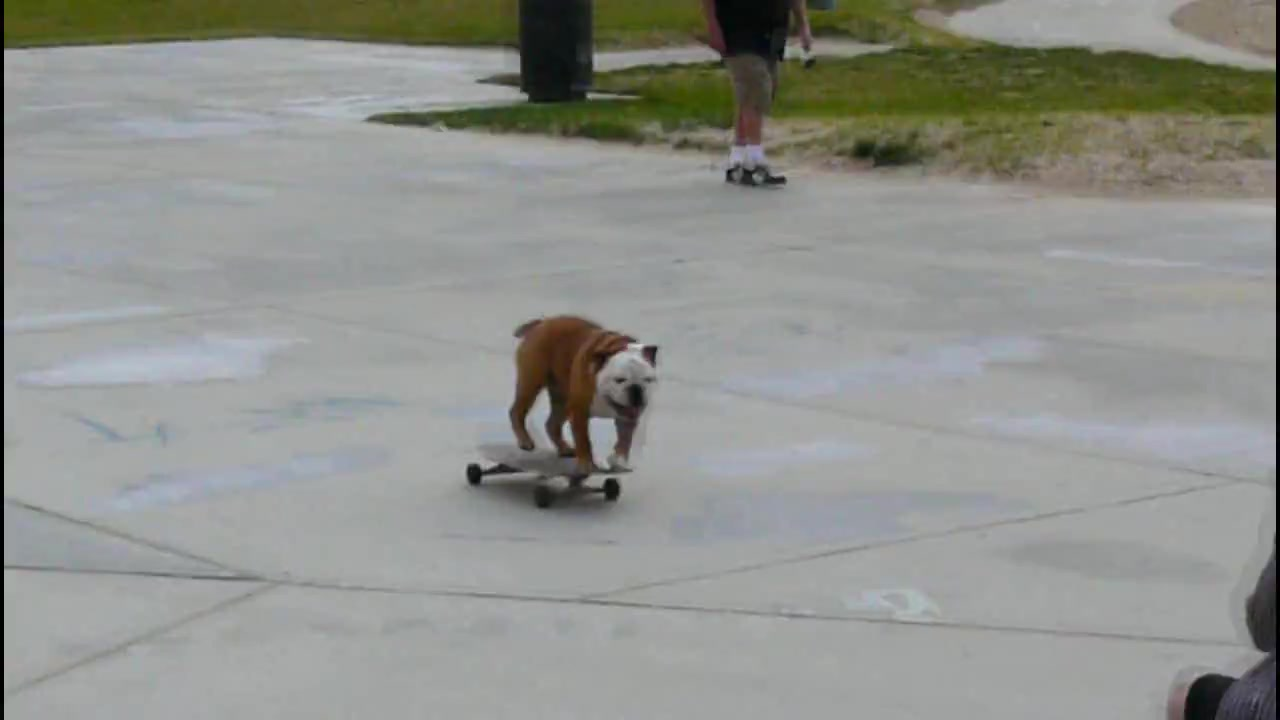dog: (506, 313, 663, 473)
